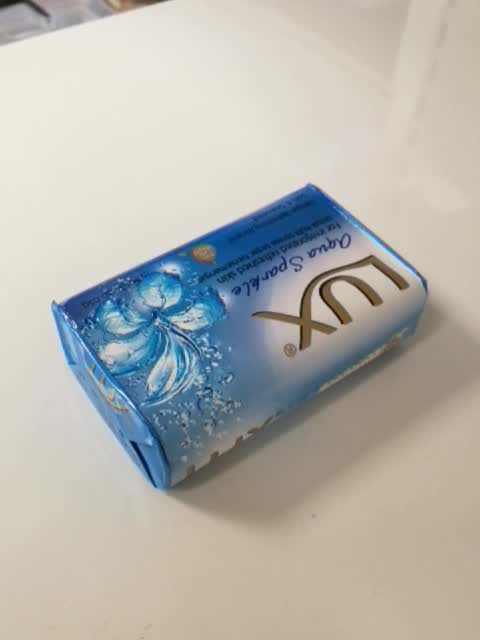soap: (46, 182, 432, 493)
